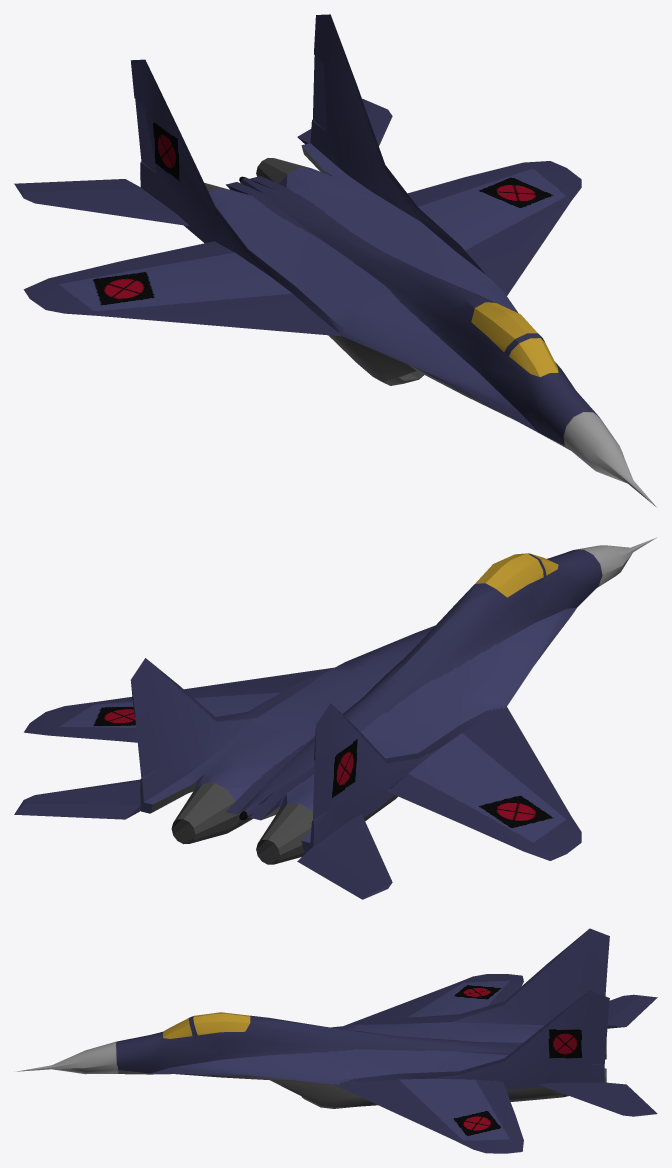
The model's file is MiG-29.obj.
3 renders of one model, top to bottom at view 1: azimuth 30°, elevation 25°; view 2: azimuth 150°, elevation 25°; view 3: azimuth 270°, elevation 25°, orthographic. The views are drawn at different scales.
Parts seen in each view (by area): view 1: Body, ElevatorR, ElevatorL; view 2: Body, ElevatorR, ElevatorL; view 3: Body, ElevatorL, ElevatorR.
Boxes of the visible parts, x1,y1,x2,y2 form: Body: [23, 14, 656, 507]; ElevatorR: [14, 179, 189, 226]; ElevatorL: [297, 98, 392, 145]; Body: [24, 537, 656, 864]; ElevatorR: [297, 814, 392, 899]; ElevatorL: [14, 779, 141, 819]; Body: [14, 928, 609, 1153]; ElevatorL: [538, 1082, 657, 1116]; ElevatorR: [607, 994, 657, 1028].
Bounding box in the file's own units: 11.37 × 4 × 17.22.
1 material, 1 textured.
